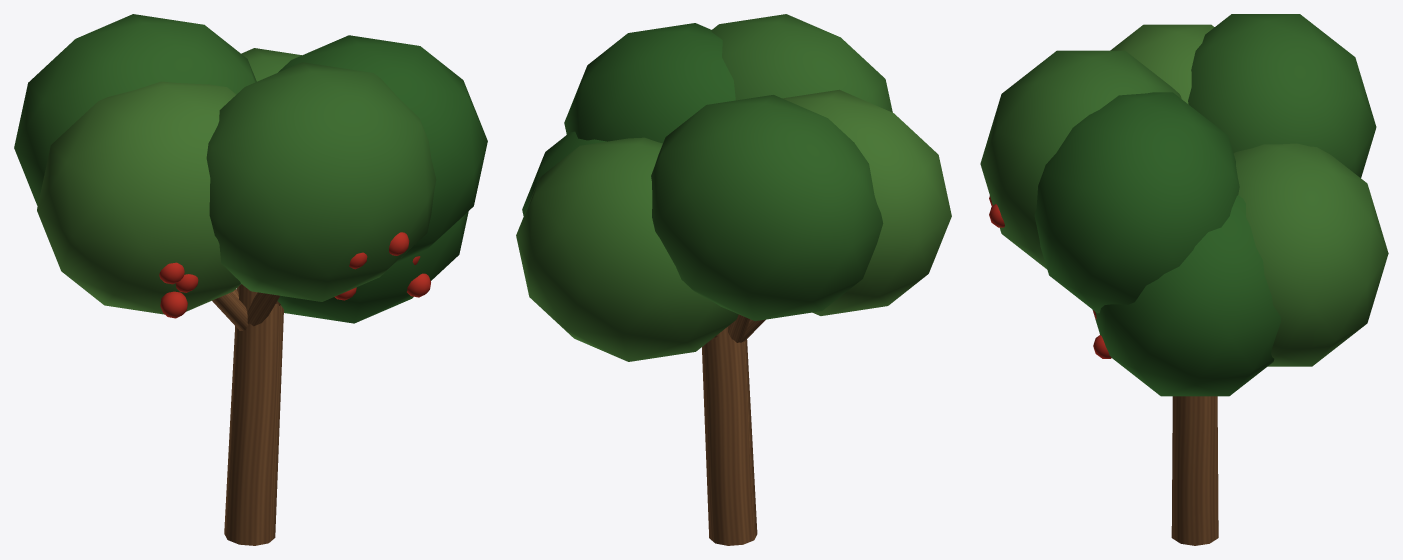
The model's file is apple_tree.glb.
3 views of the same model, side by side, from view 1: azimuth 30°, elevation 25°; view 2: azimuth 150°, elevation 25°; view 3: azimuth 270°, elevation 25° (orthographic). The views are drawn at different scales.
Visible parts, largest first — view 1: Rounded leaf crown.002, Rounded leaf crown.004, Rounded leaf crown.001, Rounded leaf crown.005, Orchard trunk, Rounded leaf crown, Rounded leaf crown.003, Tree bough.004, Tree bough.002, Apple.013; view 2: Rounded leaf crown.001, Rounded leaf crown.003, Rounded leaf crown.004, Rounded leaf crown.005, Rounded leaf crown.002, Orchard trunk, Rounded leaf crown; view 3: Rounded leaf crown.005, Rounded leaf crown.003, Rounded leaf crown, Rounded leaf crown.001, Rounded leaf crown.002, Orchard trunk, Rounded leaf crown.004.
Part boxes in pixels (x1,y1,x2,y2): Rounded leaf crown.002: (206, 62, 436, 301); Rounded leaf crown.004: (37, 81, 240, 314); Rounded leaf crown.001: (14, 14, 256, 205); Rounded leaf crown.005: (278, 35, 487, 263); Orchard trunk: (224, 284, 283, 545); Rounded leaf crown: (277, 211, 468, 323); Rounded leaf crown.003: (241, 48, 301, 81); Tree bough.004: (212, 292, 248, 330); Tree bough.002: (247, 292, 279, 326); Apple.013: (160, 291, 187, 318); Rounded leaf crown.001: (651, 95, 883, 321); Rounded leaf crown.003: (516, 137, 738, 361); Rounded leaf crown.004: (782, 89, 951, 315); Rounded leaf crown.005: (564, 23, 735, 143); Rounded leaf crown.002: (711, 14, 892, 112); Orchard trunk: (702, 327, 757, 545); Rounded leaf crown: (522, 131, 606, 215); Rounded leaf crown.005: (1034, 92, 1239, 313); Rounded leaf crown.003: (1233, 143, 1388, 366); Rounded leaf crown: (1092, 195, 1280, 396); Rounded leaf crown.001: (1188, 14, 1376, 177); Rounded leaf crown.002: (980, 50, 1181, 269); Orchard trunk: (1171, 396, 1218, 545); Rounded leaf crown.004: (1110, 24, 1214, 104).
Bounding box in the file's own units: 3.68 × 4.32 × 3.32.
Materials: 7 (1 with a texture image).
